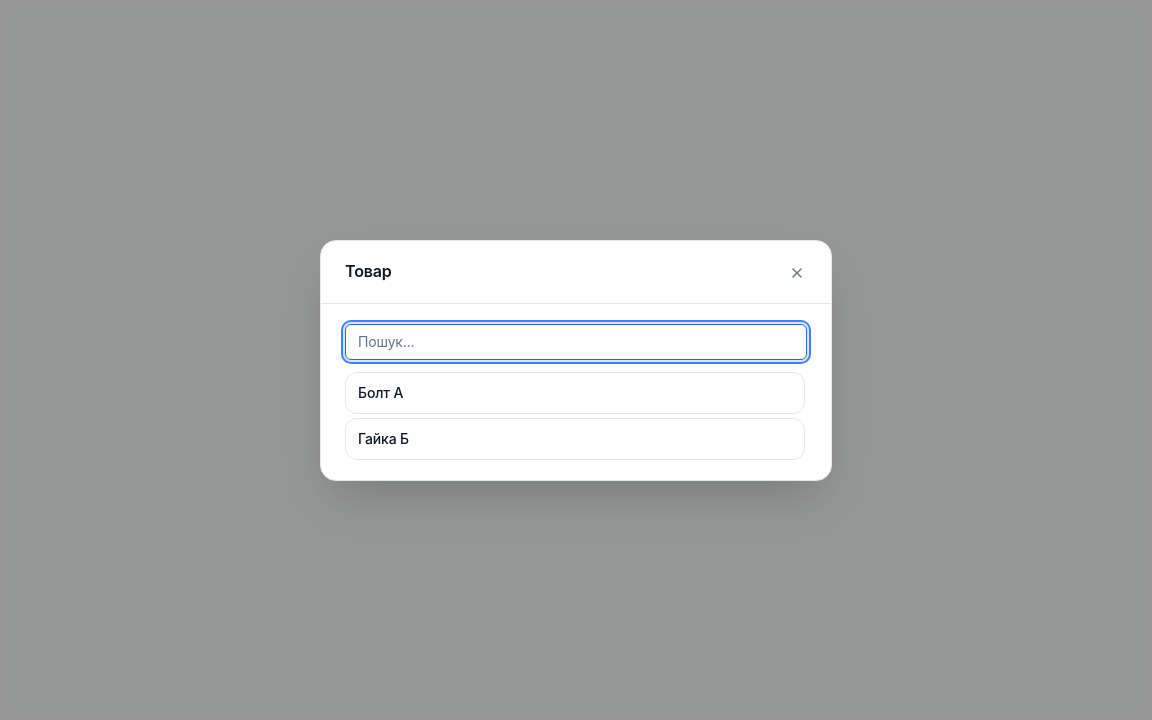
Test case: SearchPickerModal — scanner-race (сканер ШК) › #4: помилка flush fetch → error показано, без вибору, модал не закрито
Type "4820777" into the field with placeholder "Пошук...".
click(576, 342); type("4820777")  # box [345,324,807,360]
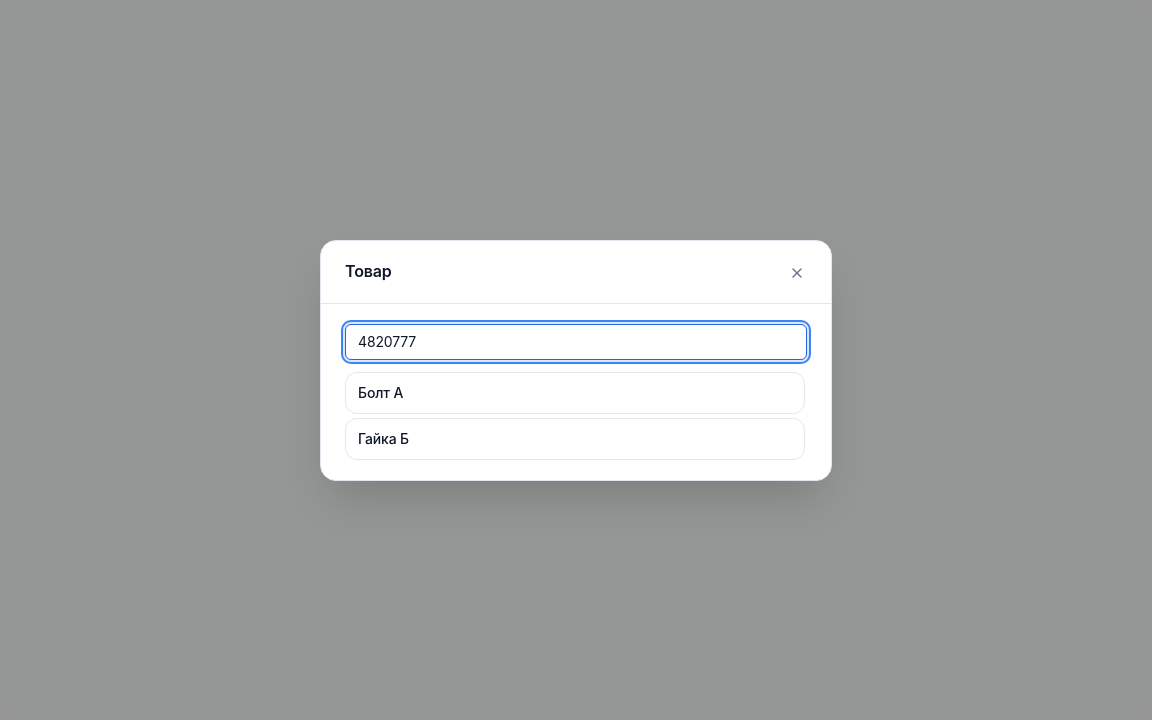
Press Enter in the field with placeholder "Пошук...", box [345,324,807,360]
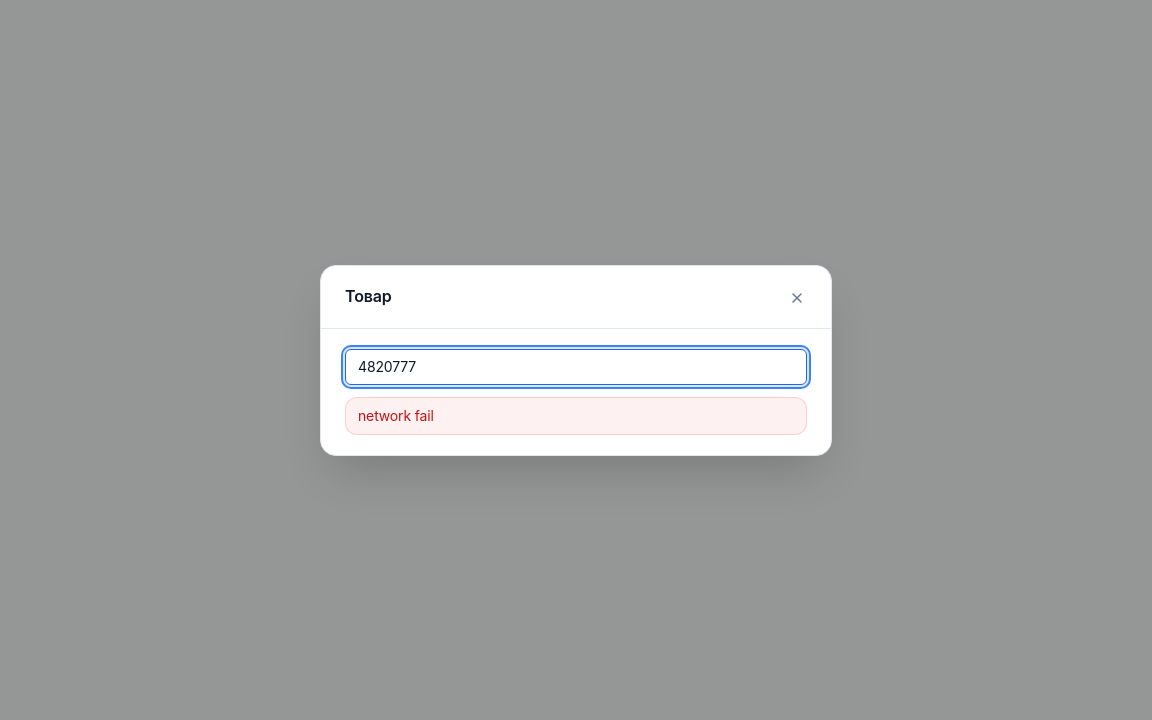
Expected: the text "network fail" is shown, [345,396,807,434]
